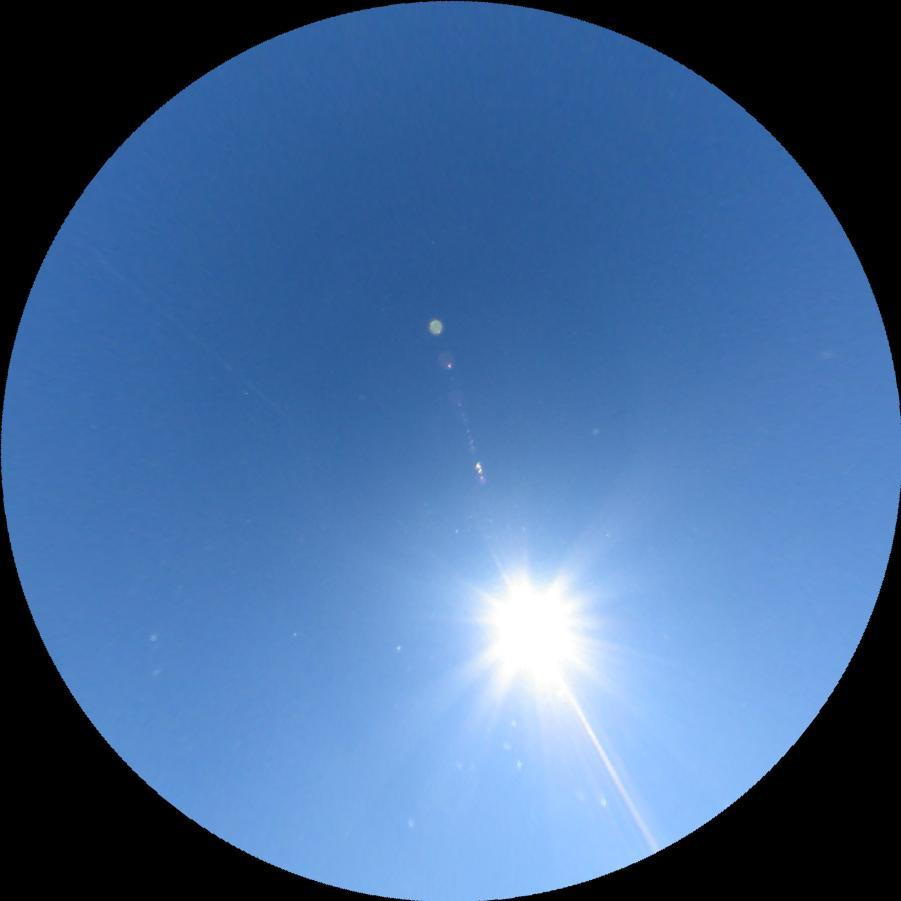parasite: (102, 258, 277, 407), (554, 674, 660, 854)
sun: (490, 576, 578, 683)
